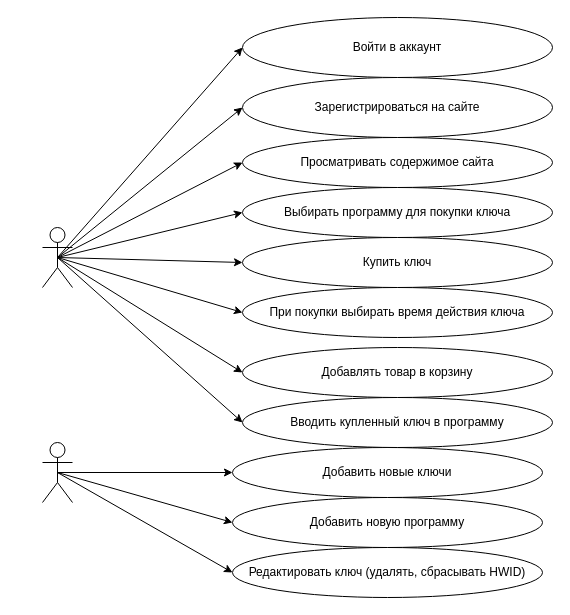
This 570x615 diagram has some shape labels left out. Here are the shapes that lost their labels. From the top down, the centre of each, then its label:
At (x=57, y=257): "Пользователь".
At (x=57, y=472): "Админитратор".
